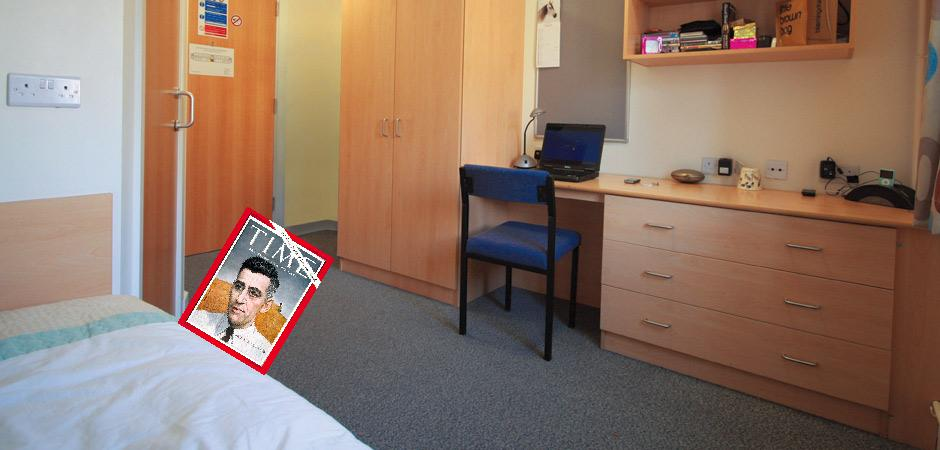times: (176, 199, 336, 377)
